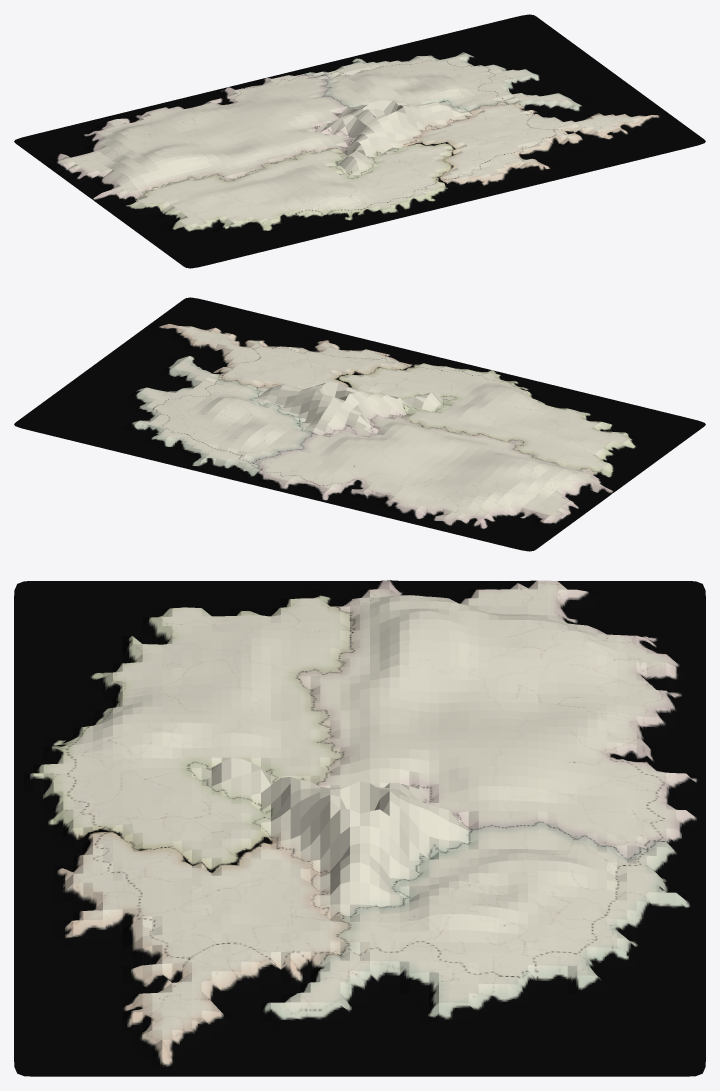
File: Monde.fbx
3 renders of one model, top to bottom at view 1: azimuth 30°, elevation 25°; view 2: azimuth 150°, elevation 25°; view 3: azimuth 270°, elevation 25°, orthographic. The views are drawn at different scales.
Parts seen in each view (by area): view 1: World; view 2: World; view 3: World.
Boxes of the visible parts, x1=… form: World: x1=14, y1=14, x2=705, y2=268; World: x1=14, y1=297, x2=705, y2=551; World: x1=14, y1=580, x2=705, y2=1076.
Size of the model in its own units: 1905 by 101 by 1124.
